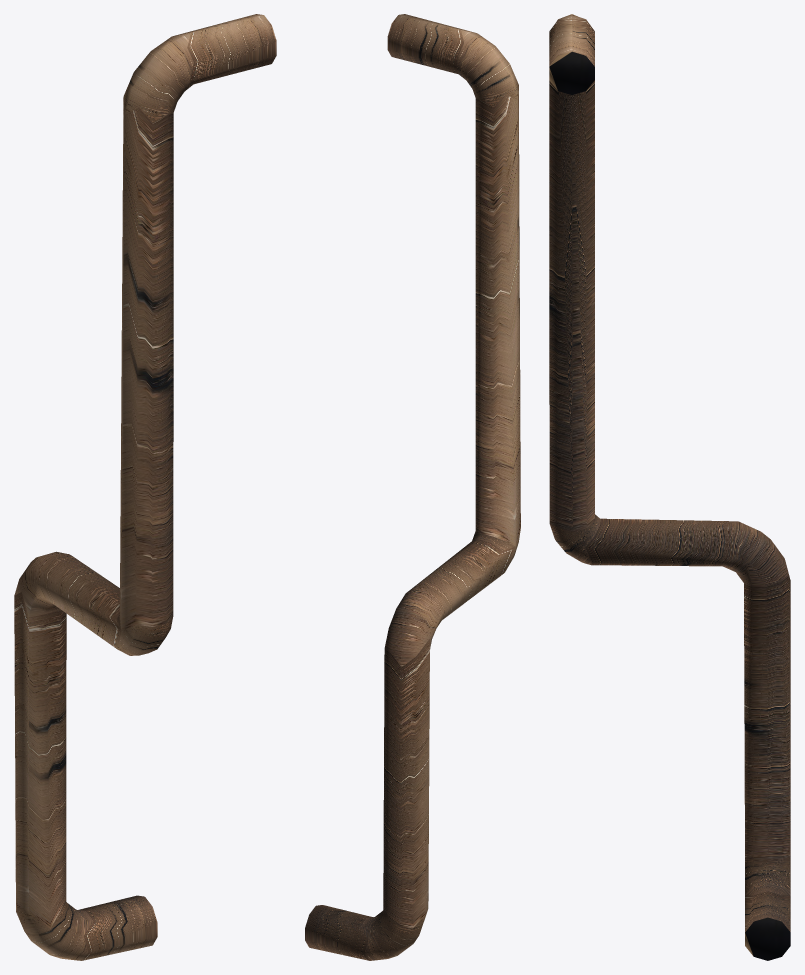
File: wallPipe2_100.fbx
3 views of the same model, side by side, from view 1: azimuth 30°, elevation 25°; view 2: azimuth 150°, elevation 25°; view 3: azimuth 270°, elevation 25° (orthographic). The views are drawn at different scales.
Parts seen in each view (by area): view 1: pipeB200; view 2: pipeB200; view 3: pipeB200.
Boxes of the visible parts, <box> form: pipeB200: <box>14,14,276,960</box>; pipeB200: <box>305,14,520,960</box>; pipeB200: <box>549,14,790,960</box>.
Bounding box in the file's own units: 0.8337 × 5.73 × 1.37.
